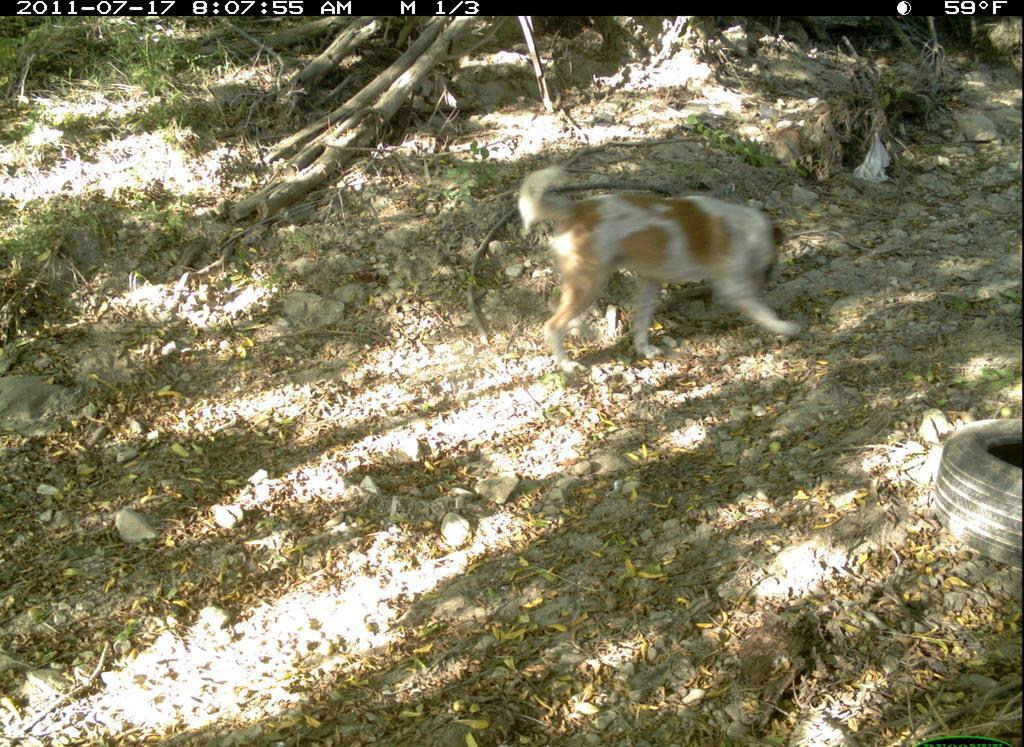dog: (516, 161, 816, 385)
